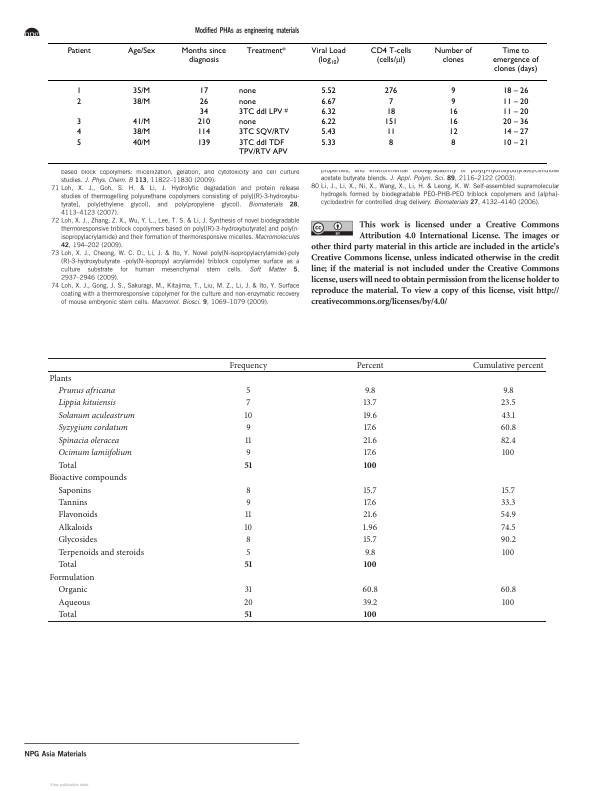borderless: (46, 356, 546, 621), (47, 41, 547, 163)
cell: (491, 45, 539, 74), (57, 547, 145, 558), (238, 137, 288, 156), (369, 44, 412, 66), (48, 472, 128, 483), (180, 45, 226, 64), (57, 410, 136, 421), (57, 447, 133, 458), (472, 360, 545, 371), (310, 45, 346, 66), (433, 45, 472, 64), (57, 423, 129, 433), (57, 435, 120, 446), (57, 385, 116, 396), (57, 398, 117, 408), (238, 127, 290, 137), (48, 572, 95, 583), (238, 106, 288, 116), (229, 360, 268, 371), (57, 510, 99, 520), (245, 45, 286, 55), (57, 535, 98, 545), (57, 522, 94, 533), (57, 597, 91, 608), (57, 584, 89, 595), (57, 485, 92, 495), (57, 497, 88, 508), (356, 360, 385, 371), (126, 45, 156, 55), (502, 86, 529, 96), (502, 96, 529, 106), (502, 117, 529, 127), (502, 127, 529, 137), (502, 137, 529, 147), (66, 45, 91, 55), (502, 107, 529, 116), (48, 373, 72, 383), (57, 460, 78, 471), (57, 609, 78, 620), (57, 560, 78, 570), (132, 86, 151, 96), (132, 96, 151, 106), (132, 117, 151, 127), (132, 127, 151, 137), (132, 137, 151, 147), (500, 435, 517, 446), (500, 522, 517, 533), (362, 584, 379, 595), (500, 584, 517, 595), (238, 86, 256, 96), (238, 96, 256, 106), (238, 117, 256, 127), (362, 410, 378, 421), (362, 435, 378, 446), (500, 497, 516, 508), (362, 522, 378, 533), (362, 597, 378, 608), (500, 398, 517, 408), (500, 423, 517, 433), (500, 510, 517, 520), (500, 535, 517, 545), (501, 410, 516, 421), (320, 86, 336, 96), (320, 96, 336, 106), (320, 117, 336, 127), (320, 127, 336, 137), (320, 137, 336, 147), (362, 510, 378, 520), (363, 447, 377, 458), (501, 447, 515, 458), (363, 497, 377, 508), (501, 547, 515, 558), (501, 597, 515, 608), (383, 86, 398, 96), (196, 117, 211, 127), (383, 117, 398, 127), (196, 127, 211, 137), (196, 137, 211, 147), (363, 398, 378, 408), (363, 485, 378, 495), (501, 485, 516, 495), (363, 535, 378, 545), (320, 107, 336, 116), (502, 385, 515, 396), (363, 423, 377, 433), (363, 609, 378, 618), (364, 385, 376, 396), (364, 547, 376, 558), (243, 597, 254, 608), (363, 460, 378, 468), (363, 560, 378, 568), (198, 86, 209, 96), (198, 96, 209, 106), (385, 127, 396, 137), (448, 117, 458, 127), (448, 127, 458, 137), (198, 107, 209, 116), (385, 107, 396, 116), (244, 410, 253, 421), (244, 522, 253, 533), (244, 584, 253, 595), (448, 107, 458, 116), (244, 435, 252, 446), (244, 609, 253, 618), (244, 510, 252, 520), (245, 447, 252, 458), (245, 497, 252, 508), (244, 460, 253, 468), (244, 560, 253, 568), (387, 96, 394, 106), (387, 137, 394, 147), (245, 423, 252, 433), (245, 485, 252, 495), (245, 535, 252, 545), (245, 385, 251, 396), (245, 547, 251, 558), (76, 86, 82, 96), (450, 86, 456, 96), (76, 96, 82, 106), (450, 96, 456, 106), (76, 117, 82, 127), (76, 127, 82, 137), (76, 137, 82, 147), (450, 137, 456, 147), (245, 398, 251, 408)
